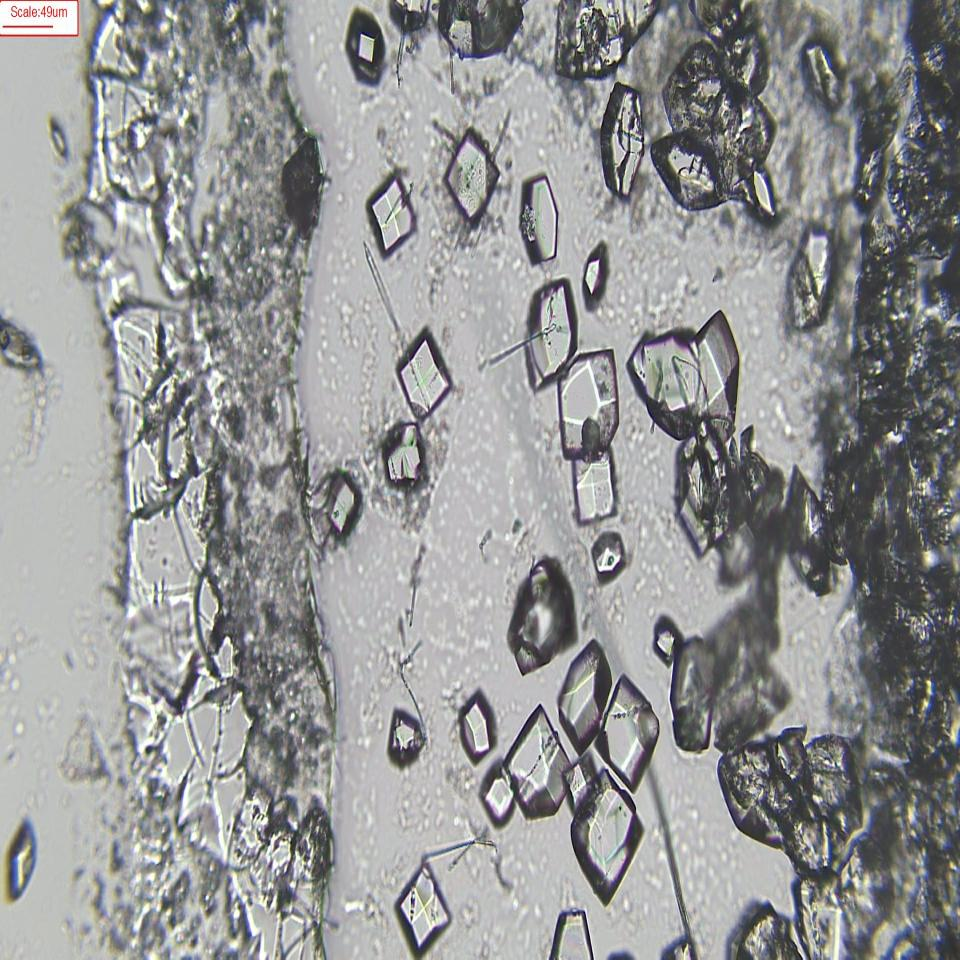crystal: (501, 540, 583, 678), (571, 764, 644, 910), (550, 336, 629, 463), (503, 695, 574, 825), (595, 658, 660, 785), (782, 462, 839, 600), (648, 132, 732, 218), (394, 848, 460, 954), (391, 318, 455, 419), (437, 128, 501, 228), (603, 70, 649, 206), (787, 220, 838, 340), (671, 636, 717, 762), (555, 637, 610, 742), (523, 278, 574, 390), (517, 164, 564, 272), (567, 445, 624, 531), (341, 7, 391, 93), (473, 754, 520, 844), (366, 174, 416, 256), (378, 418, 432, 489), (383, 704, 432, 780), (327, 460, 366, 552), (804, 37, 848, 117), (8, 814, 42, 908), (589, 522, 634, 588), (454, 695, 499, 760), (579, 242, 614, 301), (750, 165, 777, 223), (651, 613, 677, 663)
not_crystal: (677, 418, 746, 548)
